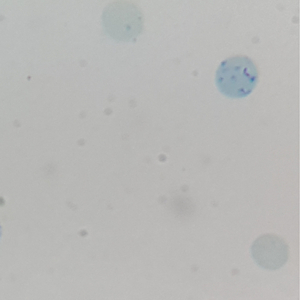aggregate reticulocyte: (213, 54, 260, 100)
erythrocyte: (249, 233, 290, 272)
punctate reticulocyte: (100, 1, 146, 44)
